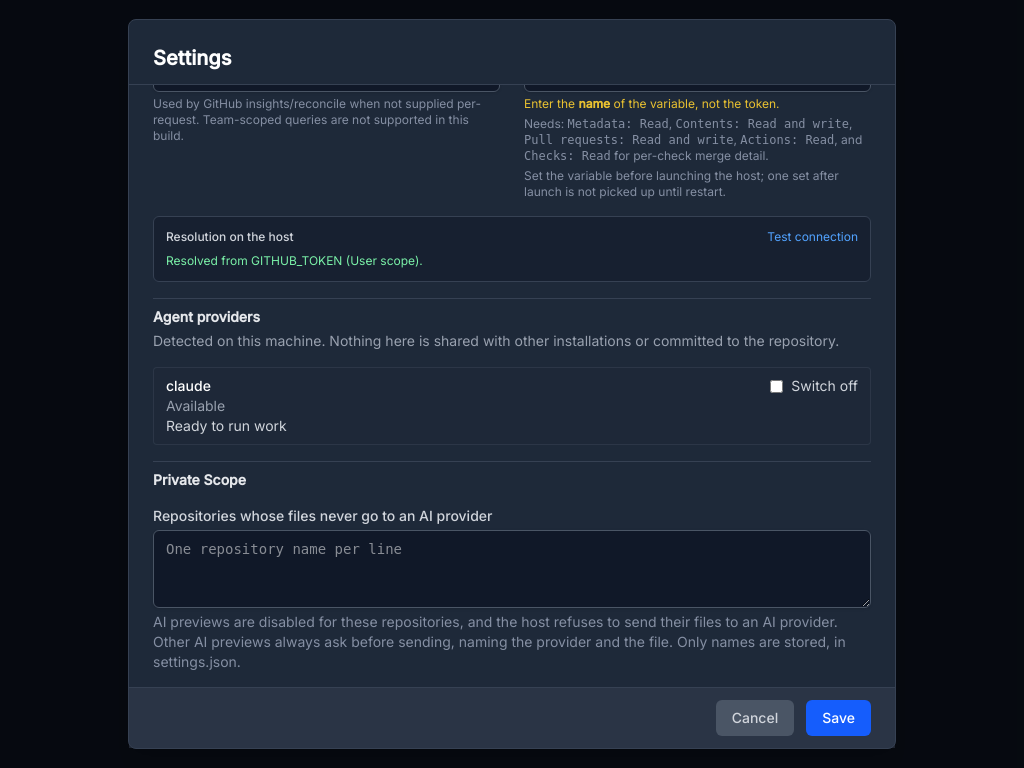
SettingsModal — agent providers (H38-19b) › keeps the old state on screen when the write fails, and says why
The image size is (1024, 768).
(page scrolled)
Click the checkbox with test id "provider-optout-claude" at [777, 386], box [770,380,783,393]
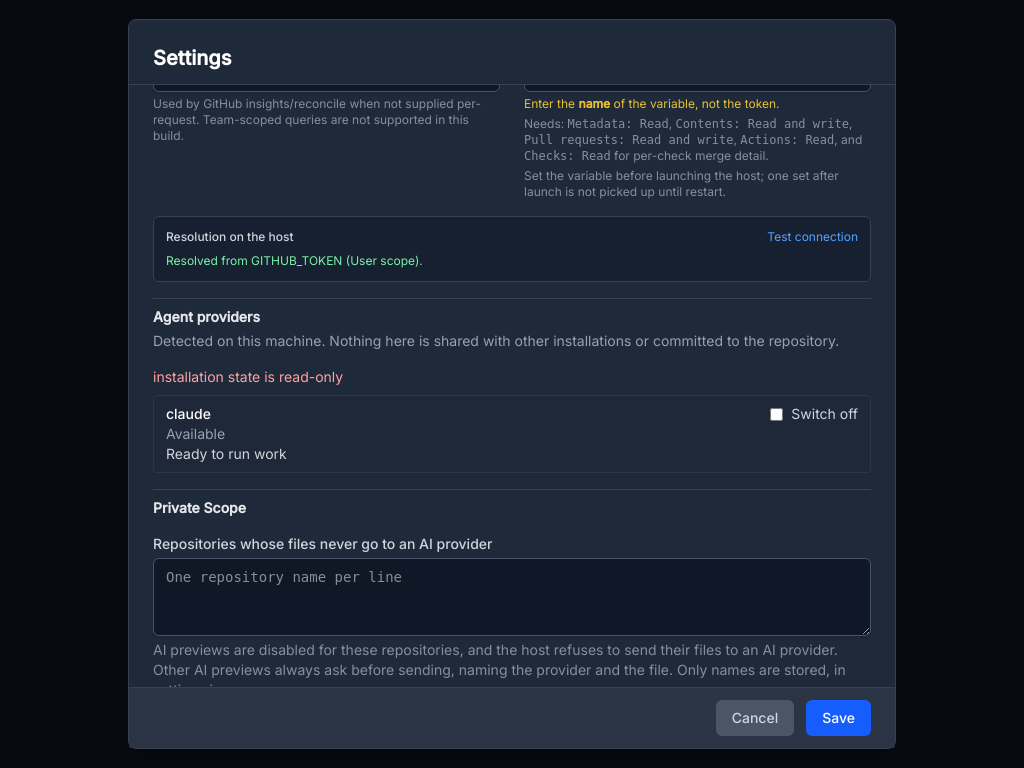
Expected: the text "Ready to run work" is shown, [166,445,287,462]
Now the text "installation state is read-only" is shown, box [153,368,343,385]
